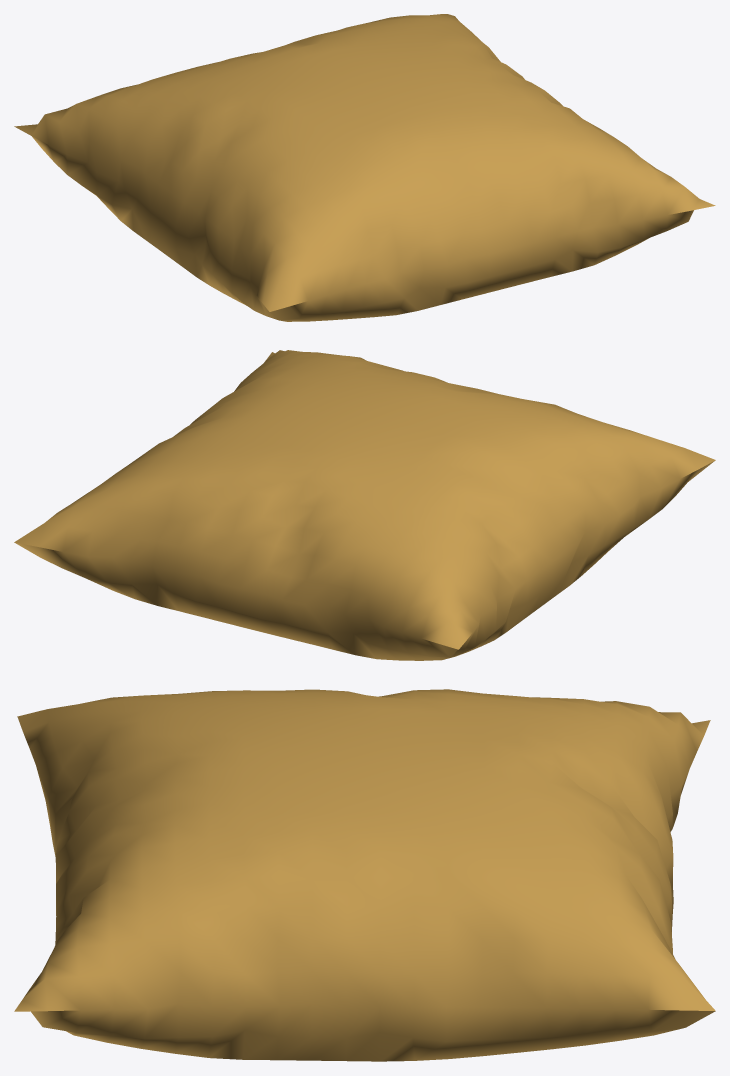
The model's file is cushion_ochre.glb.
3 renders of one model, top to bottom at view 1: azimuth 30°, elevation 25°; view 2: azimuth 150°, elevation 25°; view 3: azimuth 270°, elevation 25°, orthographic. The views are drawn at different scales.
Visible parts, largest first — view 1: throw_cushion_soft; view 2: throw_cushion_soft; view 3: throw_cushion_soft.
Boxes of the visible parts, box(x1,y1,x2,y2) form: throw_cushion_soft: box(14, 14, 715, 321); throw_cushion_soft: box(14, 350, 715, 660); throw_cushion_soft: box(14, 689, 715, 1061).
Bounding box in the file's own units: 0.4527 × 0.1321 × 0.4575.
